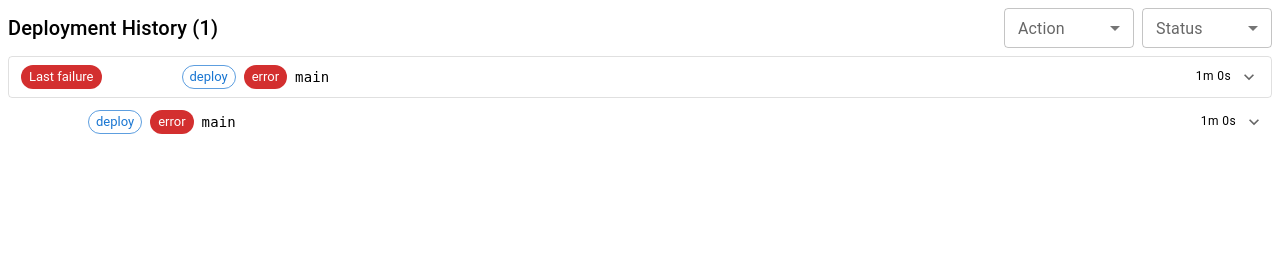
Scenario: DeploymentHistory › output panel › shows an error and the error message of the row when the log does not load
Click the button "deploy error main 1m 0s". click: (115, 122)
box: x1=8 y1=106 x2=1272 y2=138
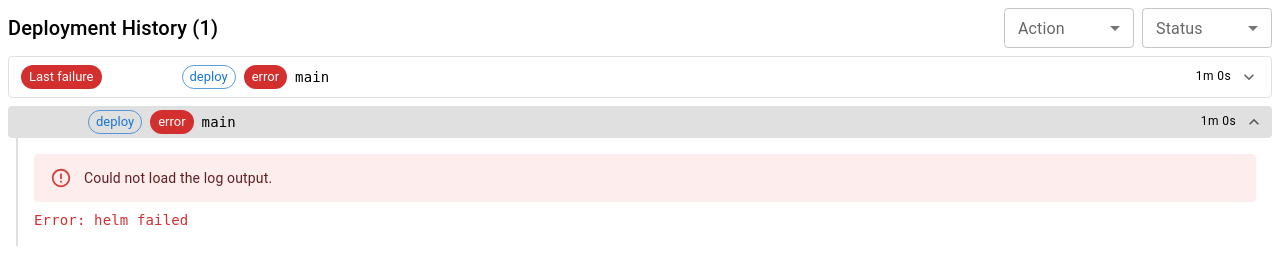
expect the text "Could not load the log output." is shown: met, box x1=84 y1=170 x2=272 y2=186
expect the text "Error: helm failed" is shown: met, box x1=34 y1=212 x2=188 y2=228
